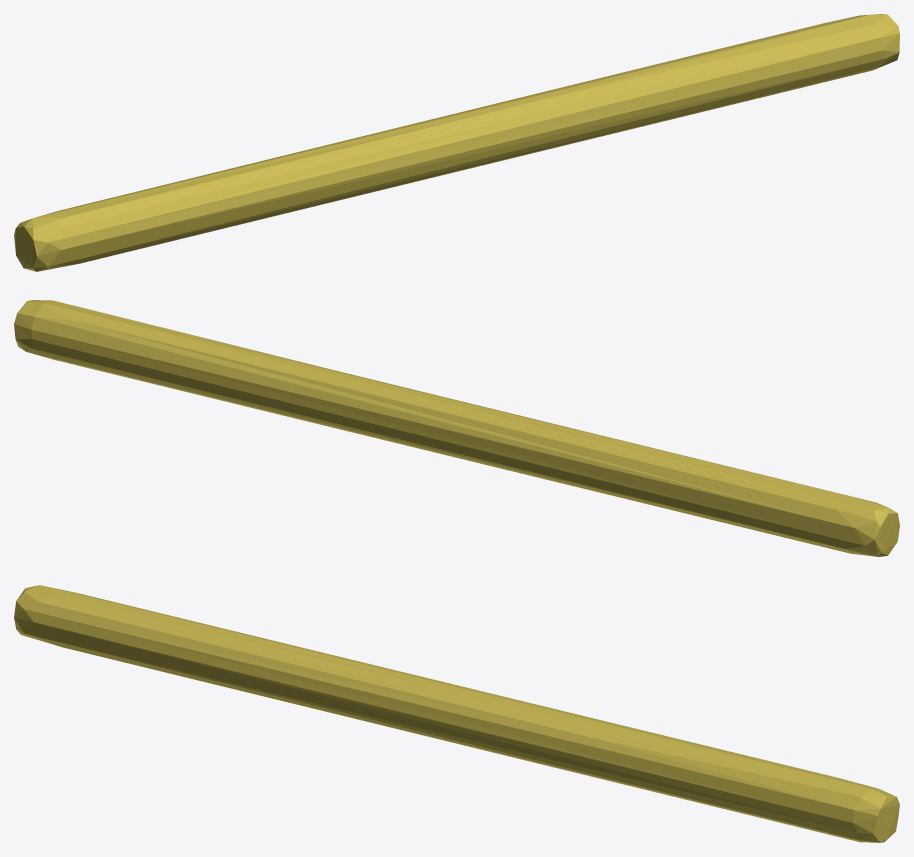
Rendered from brass 1.glb.
3 views of the same model, one above another, from view 1: azimuth 30°, elevation 25°; view 2: azimuth 150°, elevation 25°; view 3: azimuth 330°, elevation 25° (orthographic).
Parts seen in each view (by area): view 1: Cube; view 2: Cube; view 3: Cube.
Part boxes in pixels (x1=…): Cube: x1=14, y1=14, x2=899, y2=271; Cube: x1=14, y1=300, x2=899, y2=556; Cube: x1=14, y1=585, x2=899, y2=842.
Size of the model in its own units: 1.52 by 0.0862 by 0.0856.
